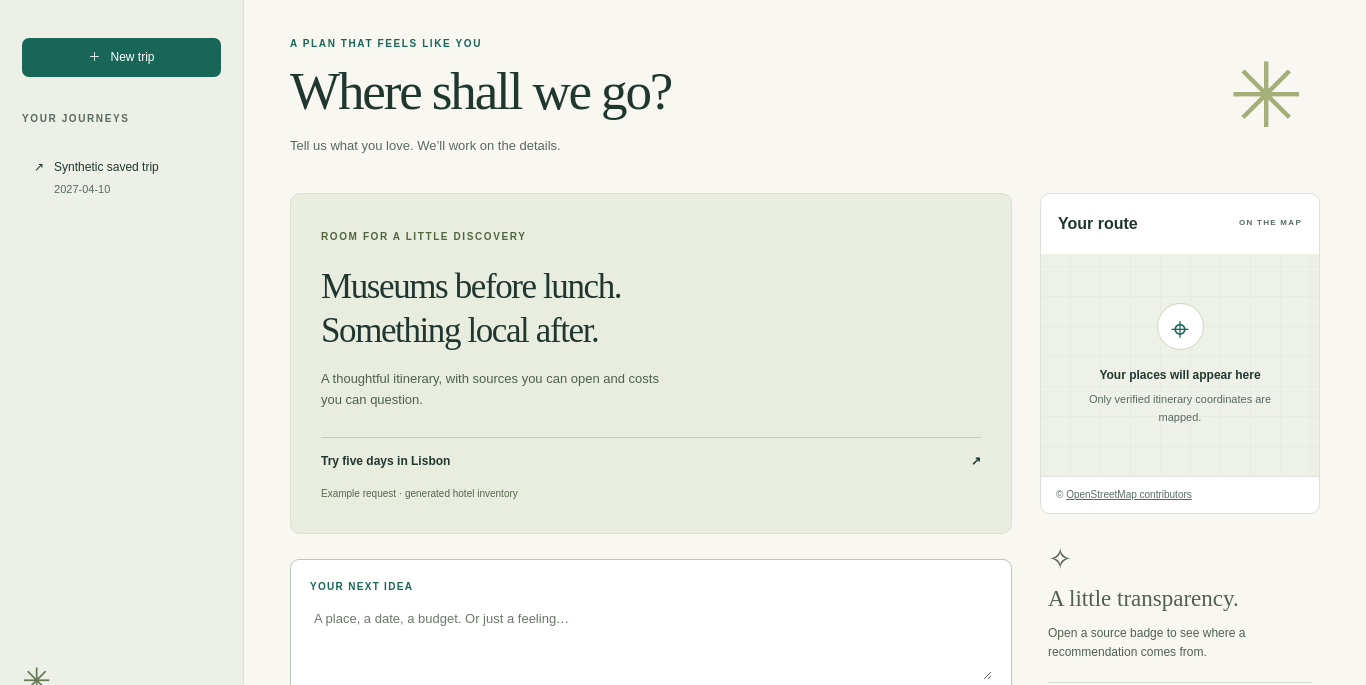
it: clearing browser history resets the open chat and draft to the home screen
Later steps or results of the test are not shown.
Click the button "↗ Synthetic saved trip 2027-04-10".
click(122, 178)  # box [22,146,221,211]
(page scrolled)
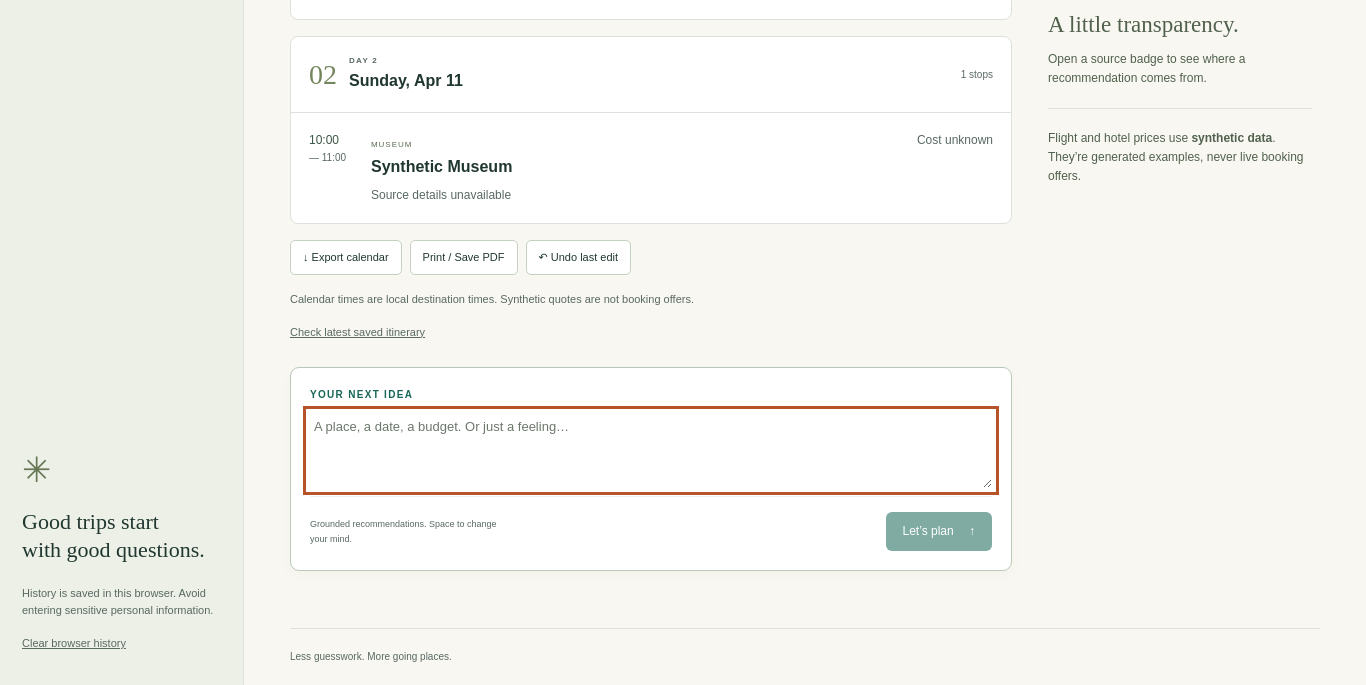
Type "Synthetic unfinished edit" into the text box.
click(651, 451); type("Synthetic unfinished edit")  # box [310,413,992,488]
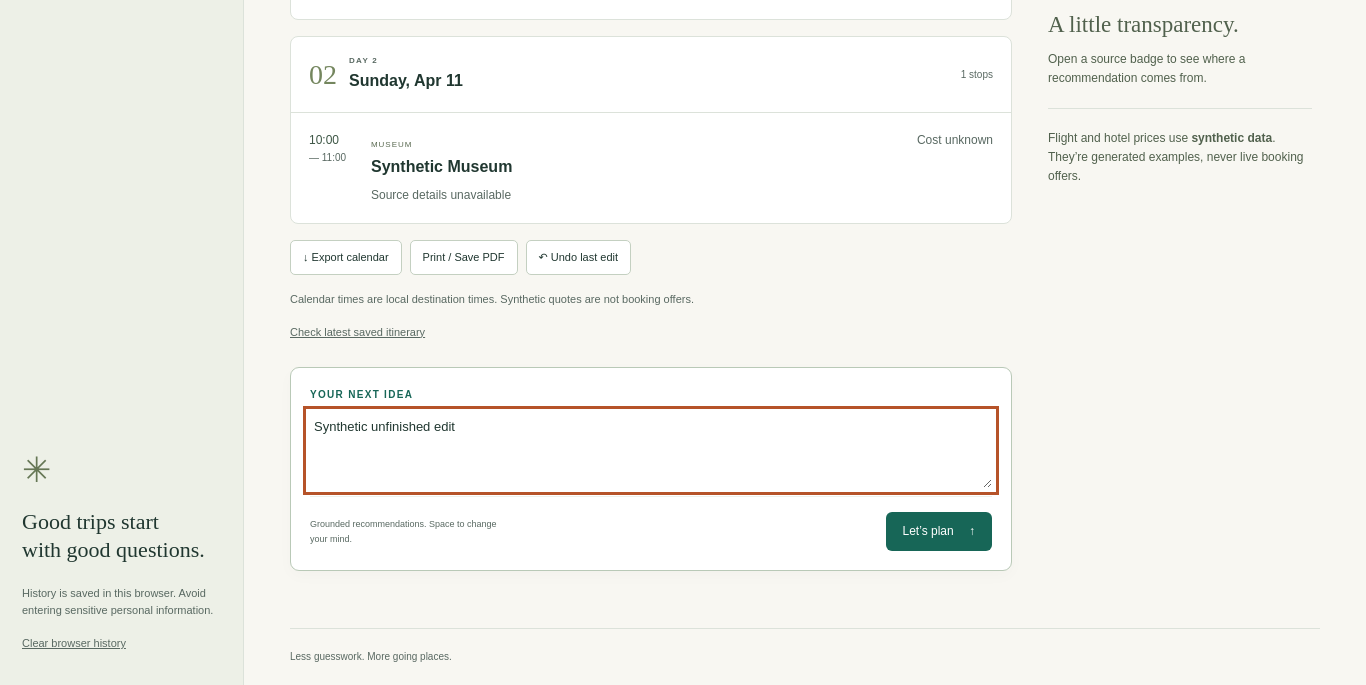
Click the button "Clear browser history".
click(74, 644)  # box [22,635,126,653]
(page scrolled)
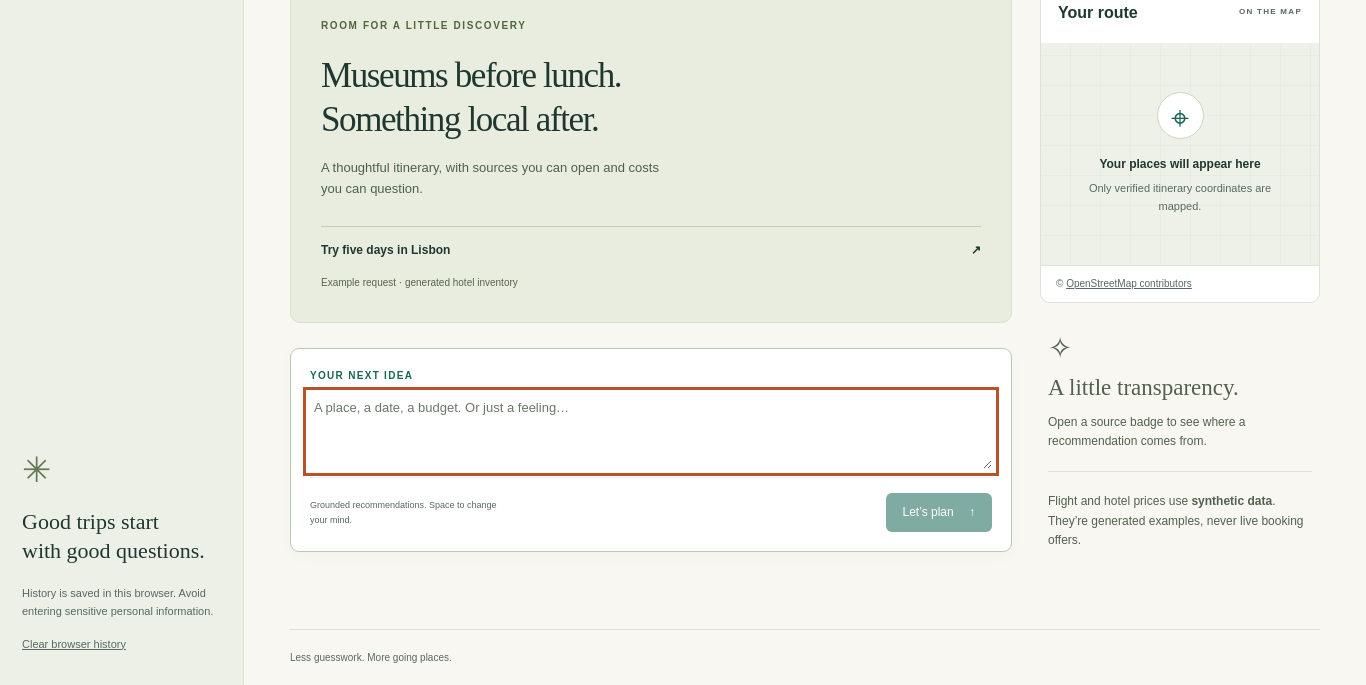
Expected: the text box is empty, [310,394,992,469]
